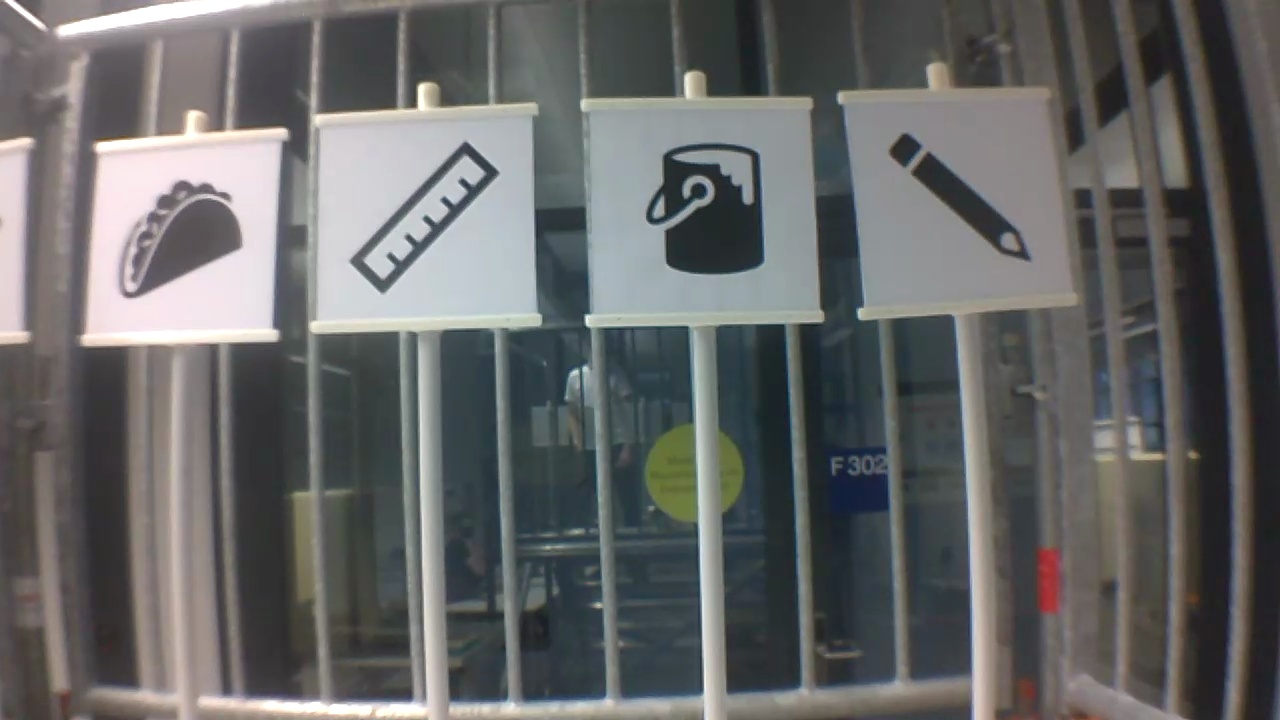bucket: (639, 142, 770, 278)
pencil: (876, 127, 1041, 273)
ruler: (342, 135, 506, 298)
taco: (115, 175, 247, 304)
